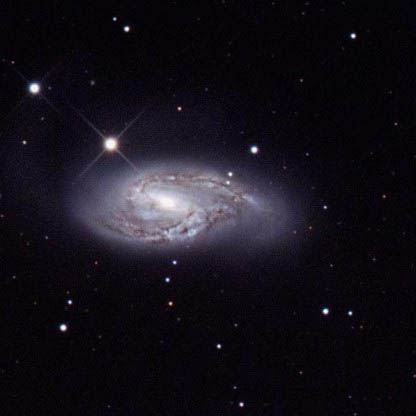Messier 66: (40, 128, 288, 275)
